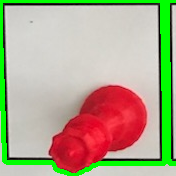Red Queen: (41, 81, 152, 174)
